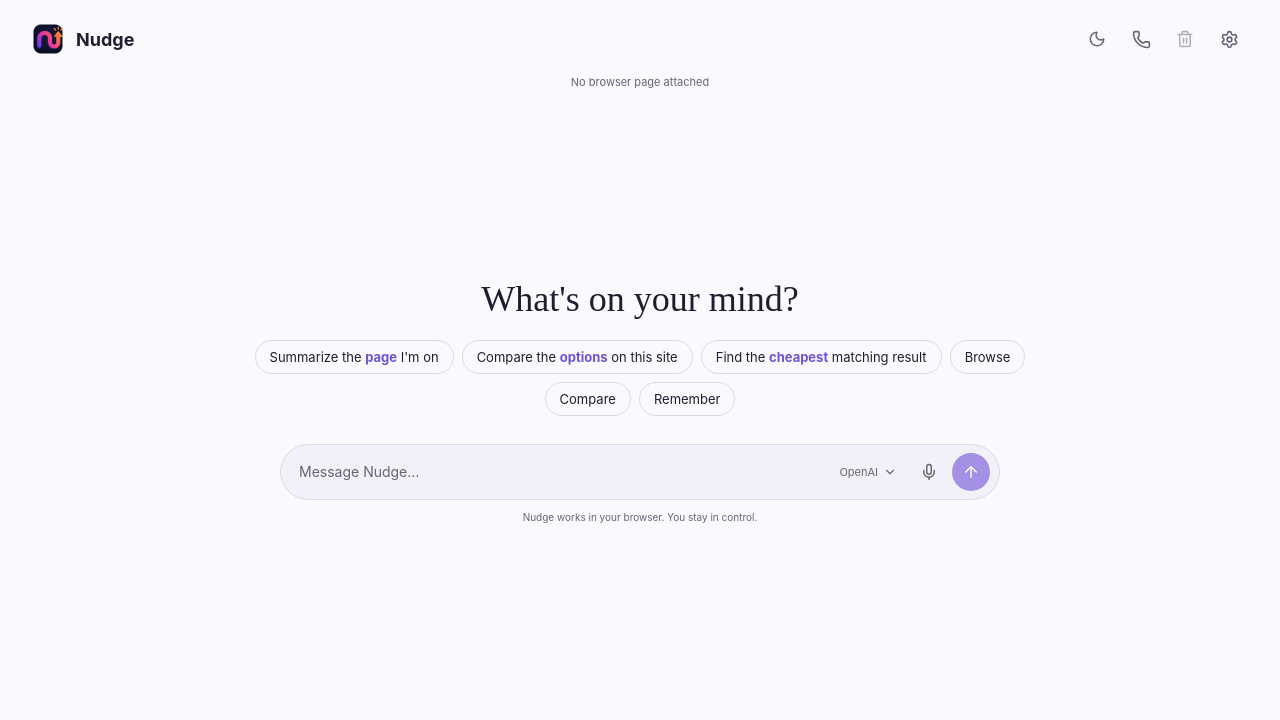
Test: full-page conversation › shows the full-page composer with a model picker and multiline input
expect the heading "What's on your mind?" is shown: met, box [481,279,799,319]
expect the button "Summarize the page I'm on" is shown: met, box [254,340,454,374]
Click the button "Browse": (988, 357) [950,340,1025,374]
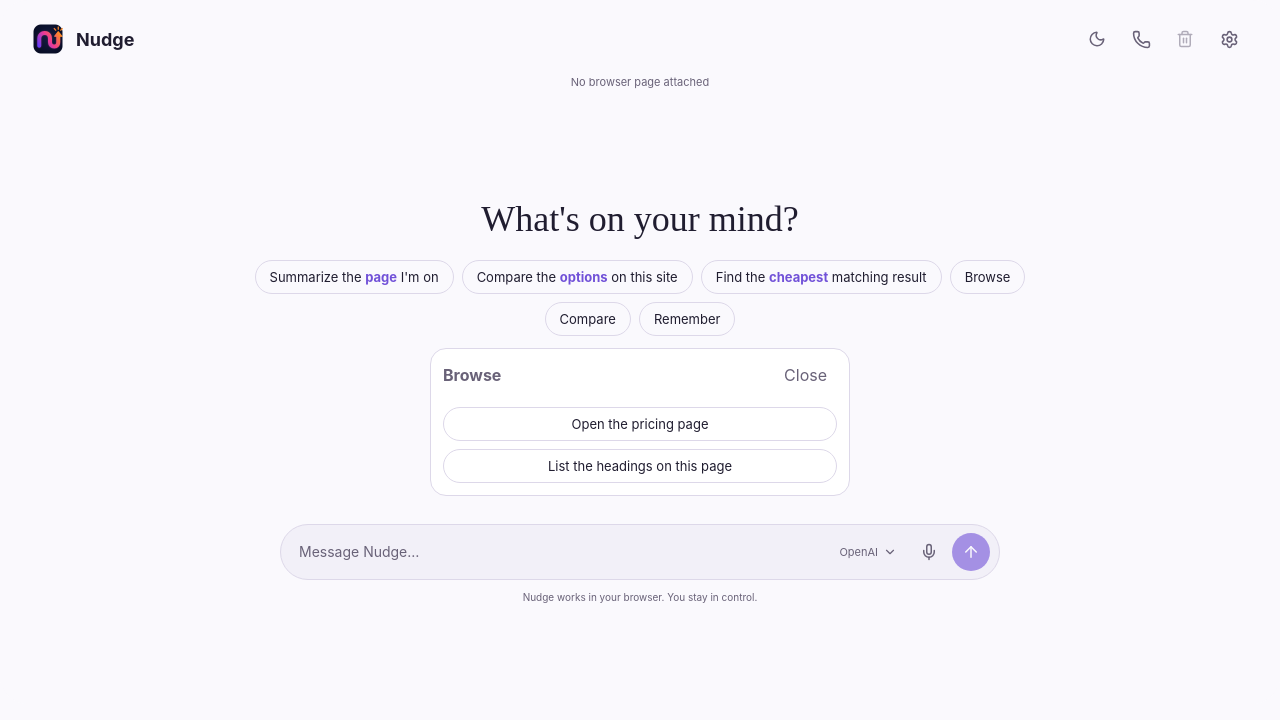
expect the button "Open the pricing page" is shown: met, box [443,407,837,441]
